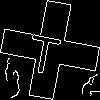T: (25, 25, 64, 76)
